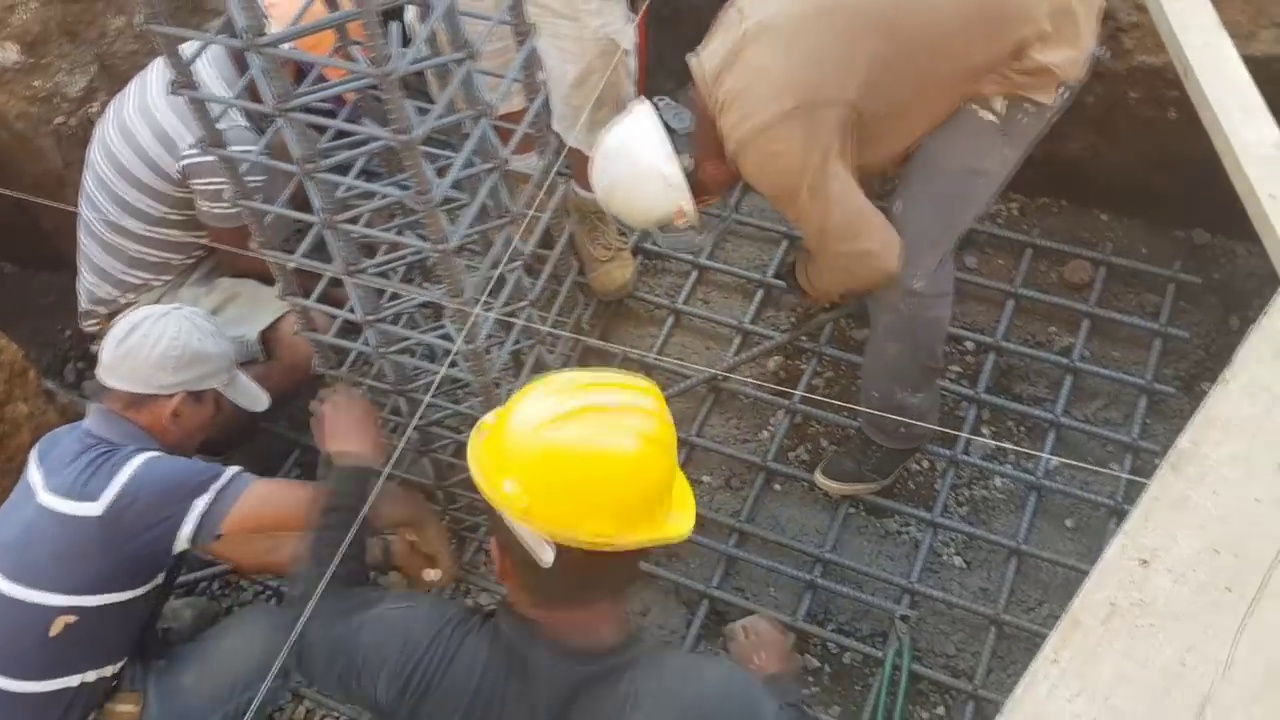helmet: (460, 368, 692, 561), (605, 90, 694, 251), (268, 0, 378, 108)
helmet-off: (89, 305, 269, 460)
helmet-on: (461, 365, 694, 673), (592, 83, 745, 252), (216, 4, 375, 138)
person: (588, 0, 1138, 504), (292, 368, 806, 717), (0, 294, 327, 720), (68, 0, 400, 390), (440, 0, 643, 298)
